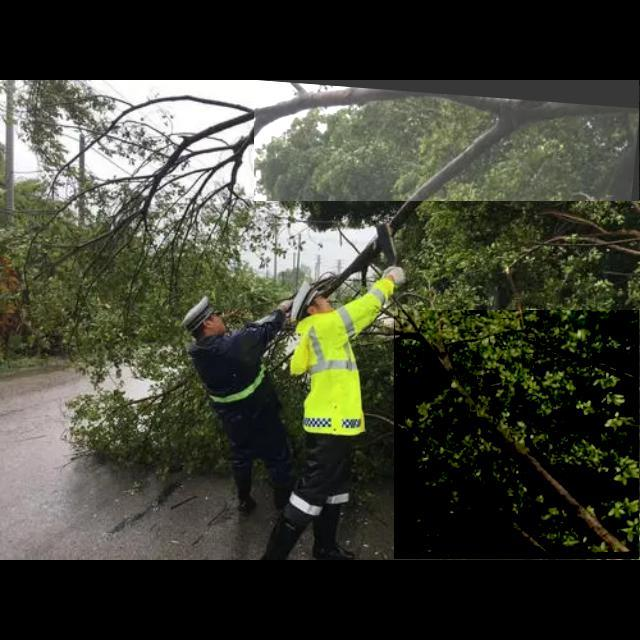fallen_tree: (394, 310, 640, 560), (254, 80, 640, 202)
